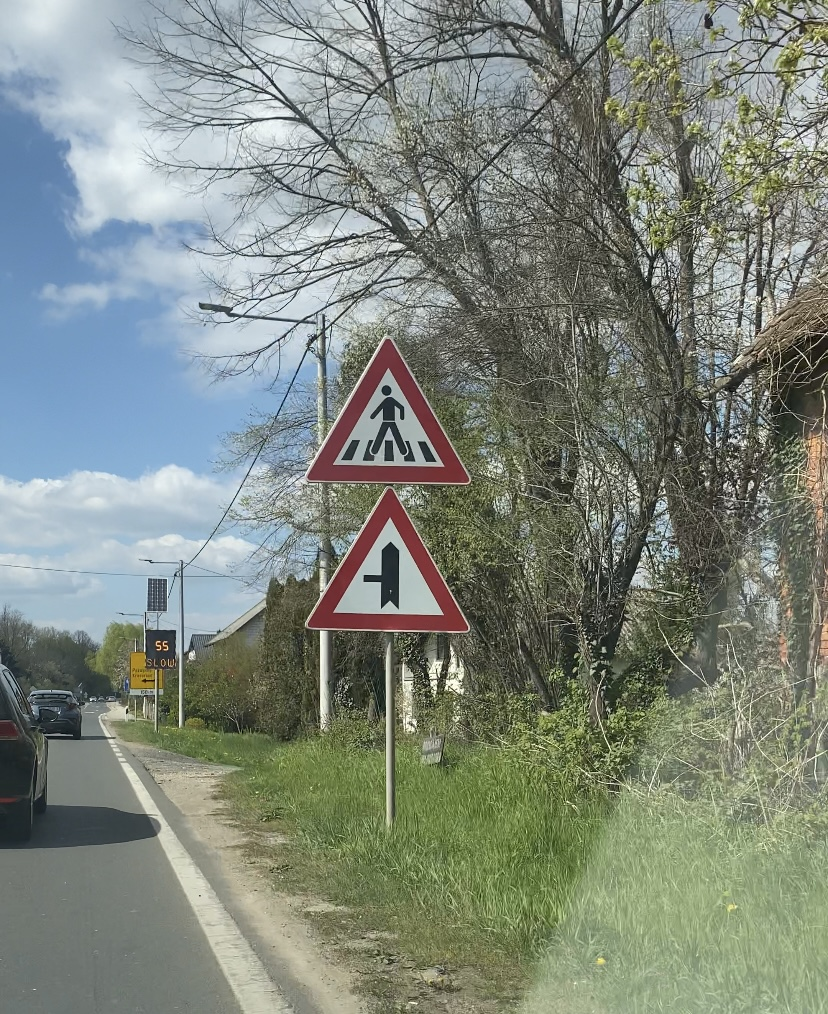Približavanje pješačkom prijelazu: (305, 335, 471, 484)
